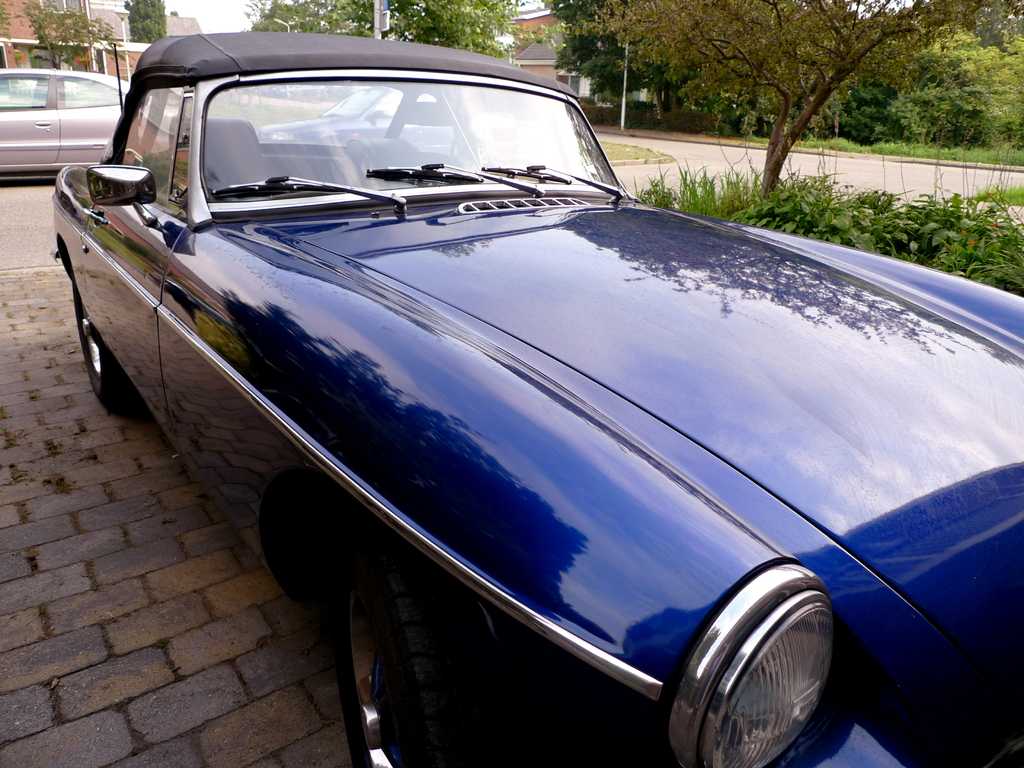Tree: (548, 0, 1024, 206), (243, 0, 572, 67), (9, 0, 137, 70), (120, 0, 170, 43)
